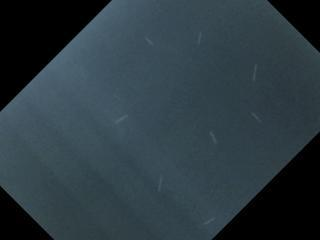scratch: (203, 120, 223, 152), (108, 103, 132, 128), (137, 30, 161, 52), (192, 27, 212, 53), (244, 105, 265, 129), (249, 62, 262, 89), (198, 210, 216, 225), (110, 91, 125, 104), (156, 173, 165, 192)
